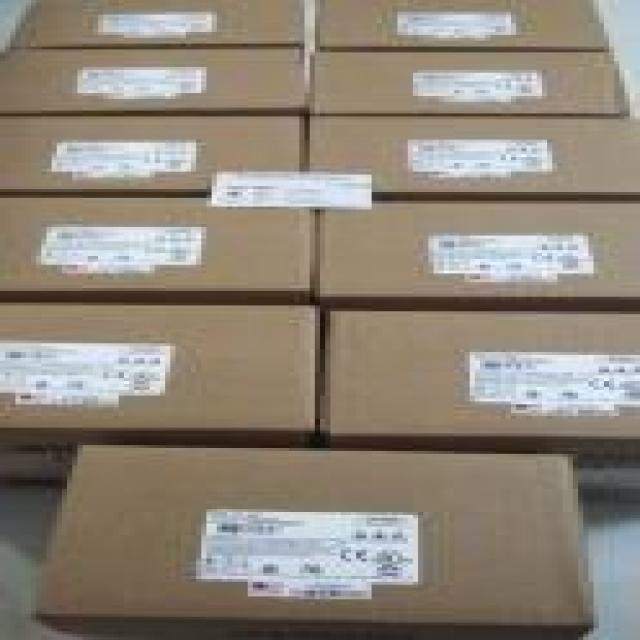box: (31, 442, 606, 640), (0, 296, 313, 480), (320, 300, 640, 460), (0, 194, 320, 312), (324, 200, 634, 308), (310, 114, 640, 198), (0, 119, 329, 202), (306, 54, 634, 120), (0, 45, 311, 113), (313, 0, 636, 53), (0, 0, 306, 52)
